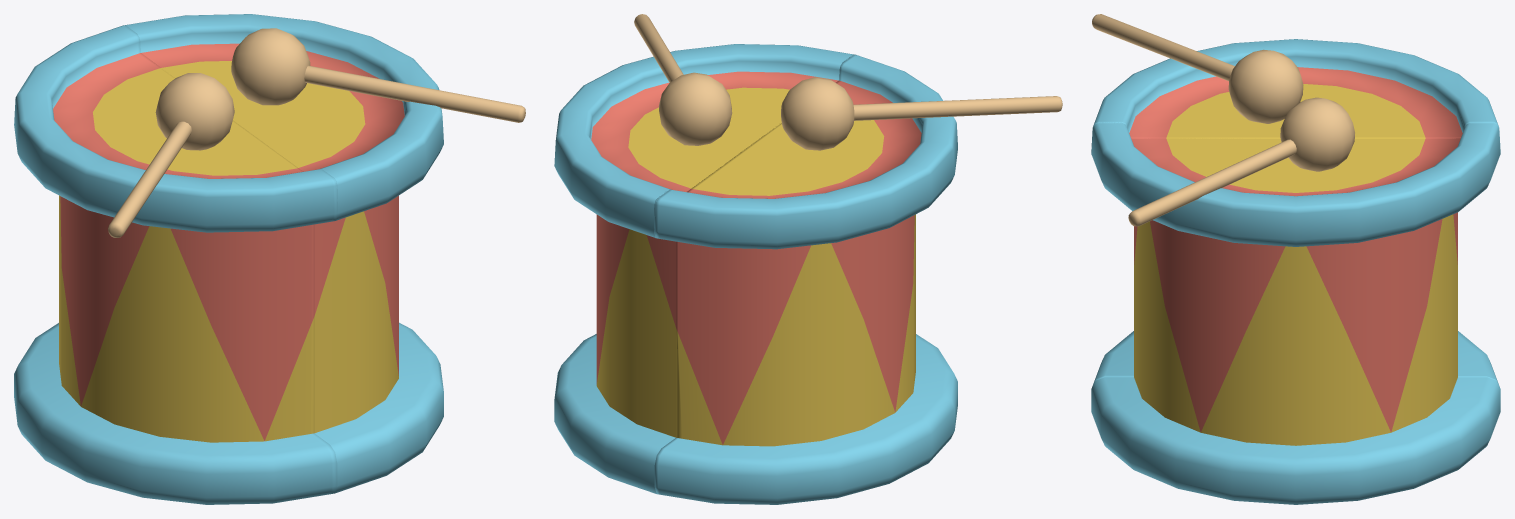
The model's file is SM_Drum_01a.fbx.
3 views of the same model, side by side, from view 1: azimuth 30°, elevation 25°; view 2: azimuth 150°, elevation 25°; view 3: azimuth 270°, elevation 25° (orthographic). The views are drawn at different scales.
Visible parts, largest first — view 1: Drum_01, Drum_02; view 2: Drum_01, Drum_02; view 3: Drum_02, Drum_01.
Part boxes in pixels (<box>): Drum_01: <box>14,25,337,504</box>; Drum_02: <box>123,14,525,493</box>; Drum_01: <box>654,54,1062,504</box>; Drum_02: <box>554,14,853,493</box>; Drum_02: <box>1091,97,1500,504</box>; Drum_01: <box>1091,14,1500,388</box>.
Size of the model in its own units: 33.85 by 27.21 by 29.05.
